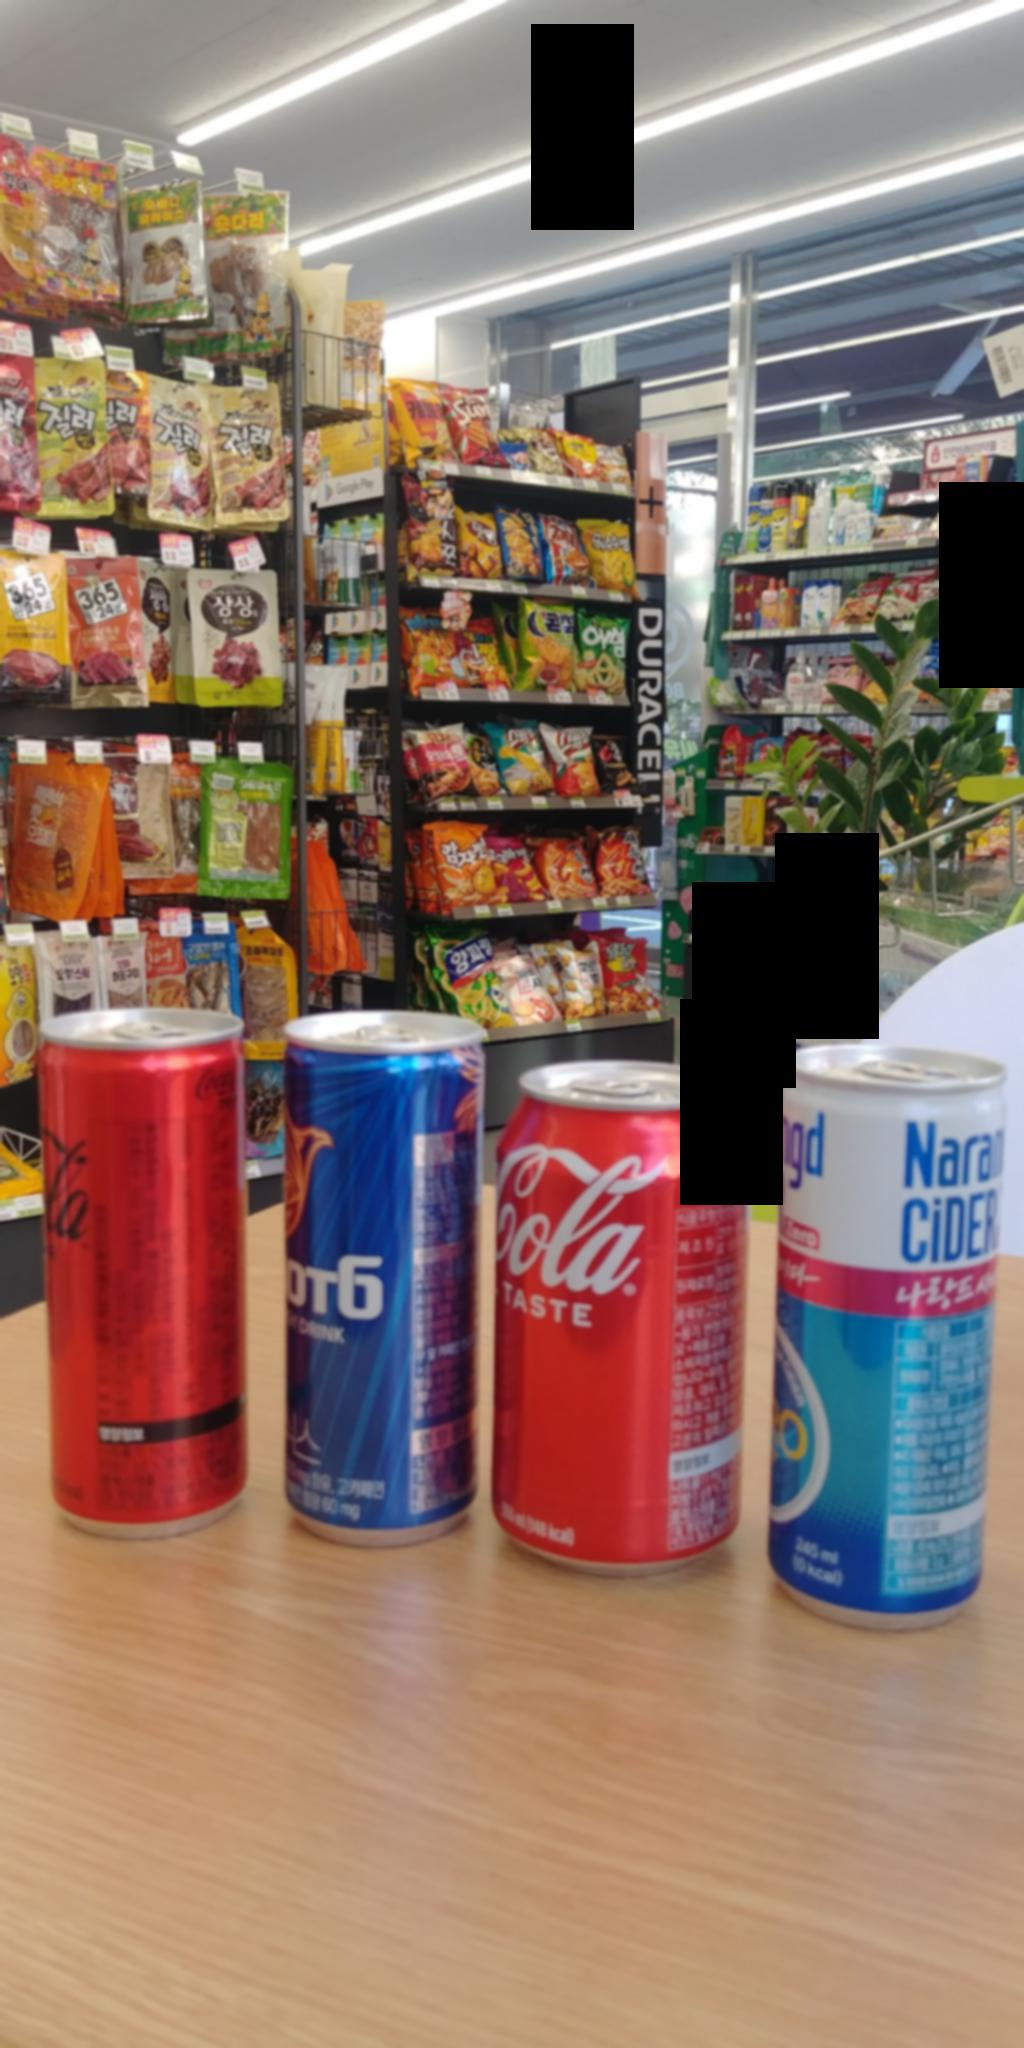cocacola: (469, 1063, 785, 1583)
hotsix_org: (277, 1004, 482, 1548)
narangdcider: (775, 1024, 1024, 1651)
